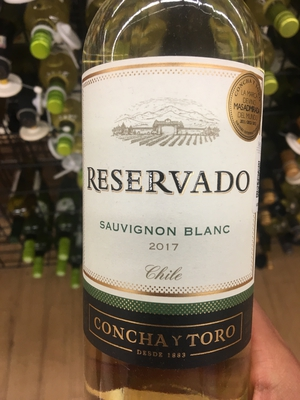reservado sauvignon blanc: (79, 18, 264, 393)
